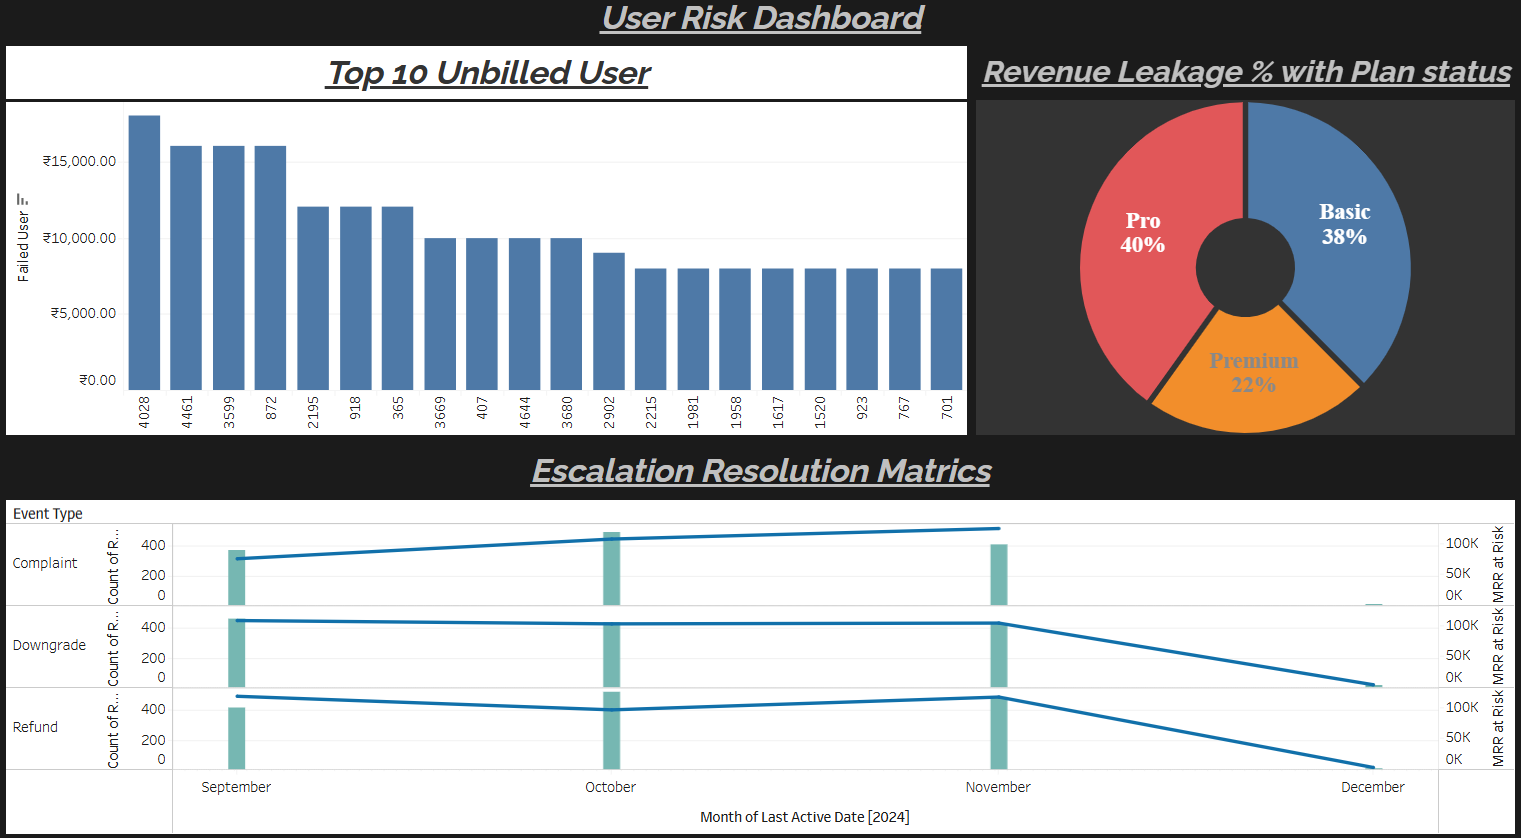

The page's visual inventory and layout, read from the dashboard file:
{"tool":"tableau","page":{"name":"User Risk Dashboard","canvas":[1366,768],"ordinal":2},"visuals":[{"type":"title","box":[8,8,1350,43]},{"type":"worksheet","title":"Top 10 Unbilled User","mark":"Automatic","rows":["Calculation_0014391500521572"],"cols":["user_id"],"box":[8,51,862.9,354.5]},{"type":"worksheet","title":"Revenue Leakage % with Plan status","box":[870.9,51,487,354.5]},{"type":"worksheet","title":"Escalation Resolution","mark":"Automatic","rows":["event_type","resolution_status","Calculation_0001057944346641"],"cols":["last_active_date"],"box":[8,405.5,1350,354.5]}]}

Visuals, with their boxes in screenshot pixels (x1, y1, x2, y2), scaled from the page's 1366x768 canvas onto the 1521x838 screenshot:
title: pyautogui.locateOnScreen(9, 9, 1512, 56)
"Top 10 Unbilled User" worksheet: pyautogui.locateOnScreen(9, 56, 970, 442)
"Revenue Leakage % with Plan status" worksheet: pyautogui.locateOnScreen(970, 56, 1512, 442)
"Escalation Resolution" worksheet: pyautogui.locateOnScreen(9, 442, 1512, 829)
